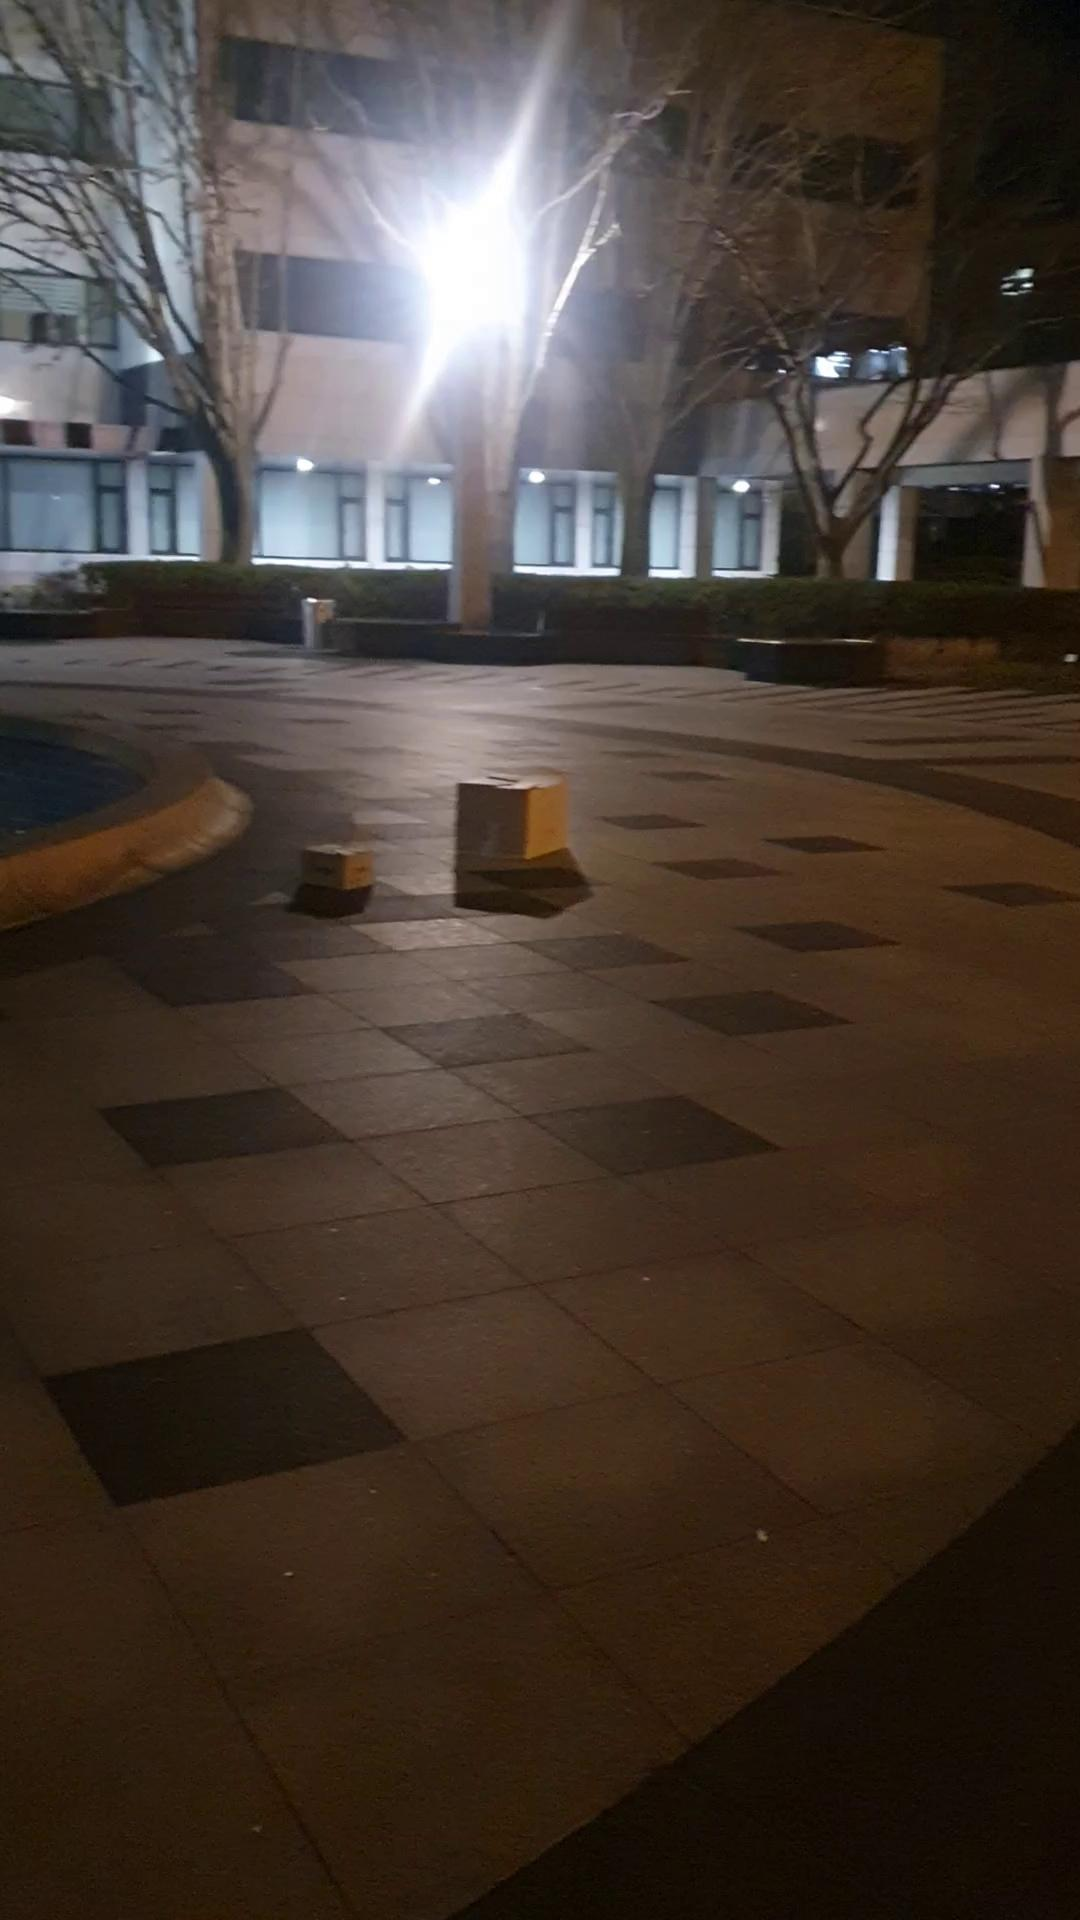Box: (446, 764, 583, 890), (295, 837, 371, 909)
